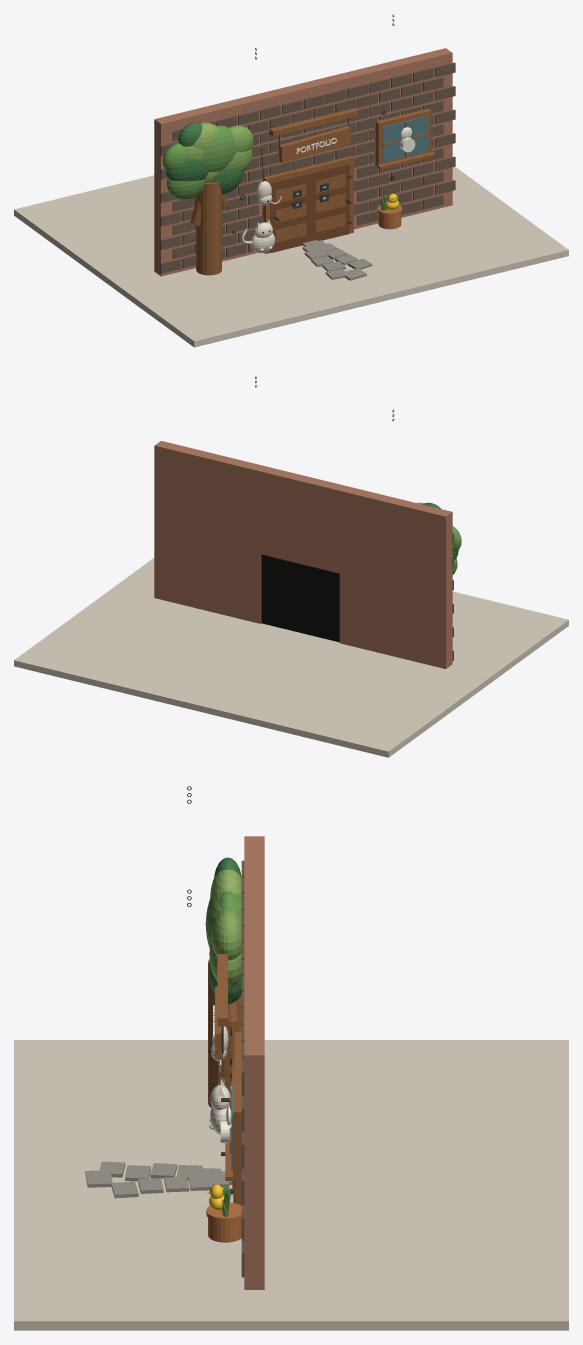
File: portfolio-entrance.glb
3 renders of one model, top to bottom at view 1: azimuth 30°, elevation 25°; view 2: azimuth 150°, elevation 25°; view 3: azimuth 270°, elevation 25°, orthographic. The views are drawn at different scales.
Parts seen in each view (by area): view 1: Entrance_Ground, Wall_Right, Wall_Left, Tree_Trunk, Wall_Top, Right_Door, Left_Door, Window_Glass, Portfolio_Sign, Tree_Leaf_Clump_1, Window_Frame, Sign_Beam (+8 smaller); view 2: Entrance_Ground, Wall_Left, Wall_Right, Wall_Top, Interior_Dark; view 3: Entrance_Ground, Wall_Right, Wall_Left, Tree_Trunk, Tree_Leaf_Clump_5, Wall_Top, Window_Frame, Sign_Beam, Planter.
Part boxes in pixels (x1,y1,x2,y2): Entrance_Ground: (14,167,568,347); Wall_Right: (340,48,452,229); Wall_Left: (154,93,267,276); Tree_Trunk: (196,181,221,275); Wall_Top: (261,74,346,174); Right_Door: (310,164,349,241); Left_Door: (270,173,310,252); Window_Glass: (382,115,428,162); Portfolio_Sign: (279,126,350,163); Tree_Leaf_Clump_1: (202,128,236,171); Window_Frame: (375,108,431,165); Sign_Beam: (269,108,358,136); Entrance_Ground: (14,558,568,757); Wall_Left: (339,486,452,668); Wall_Right: (154,441,266,623); Wall_Top: (260,466,345,573); Interior_Dark: (261,554,339,642); Entrance_Ground: (14,1040,568,1330); Wall_Right: (244,975,264,1289); Wall_Left: (244,836,264,916); Tree_Trunk: (208,959,241,1107); Tree_Leaf_Clump_5: (211,909,241,960); Wall_Top: (244,916,264,975); Window_Frame: (233,1072,241,1179); Sign_Beam: (217,954,227,1026); Planter: (208,1218,241,1242).
Size of the model in its own units: 18 by 10.5 by 15.
